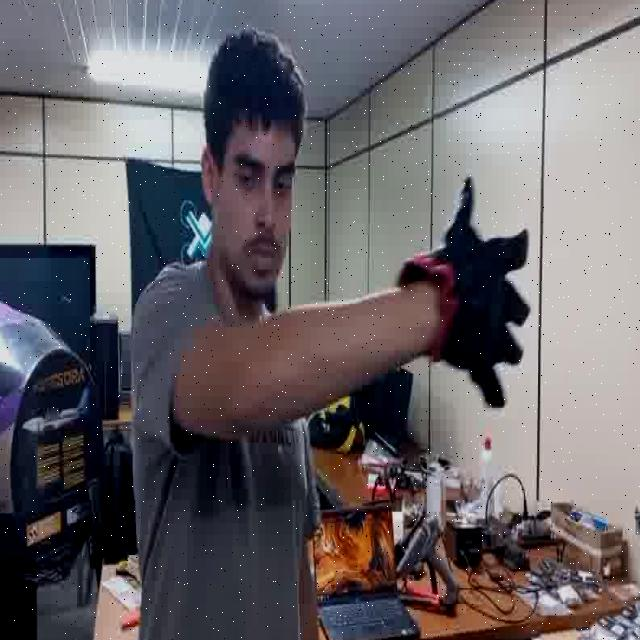Gloves: (401, 168, 537, 410)
